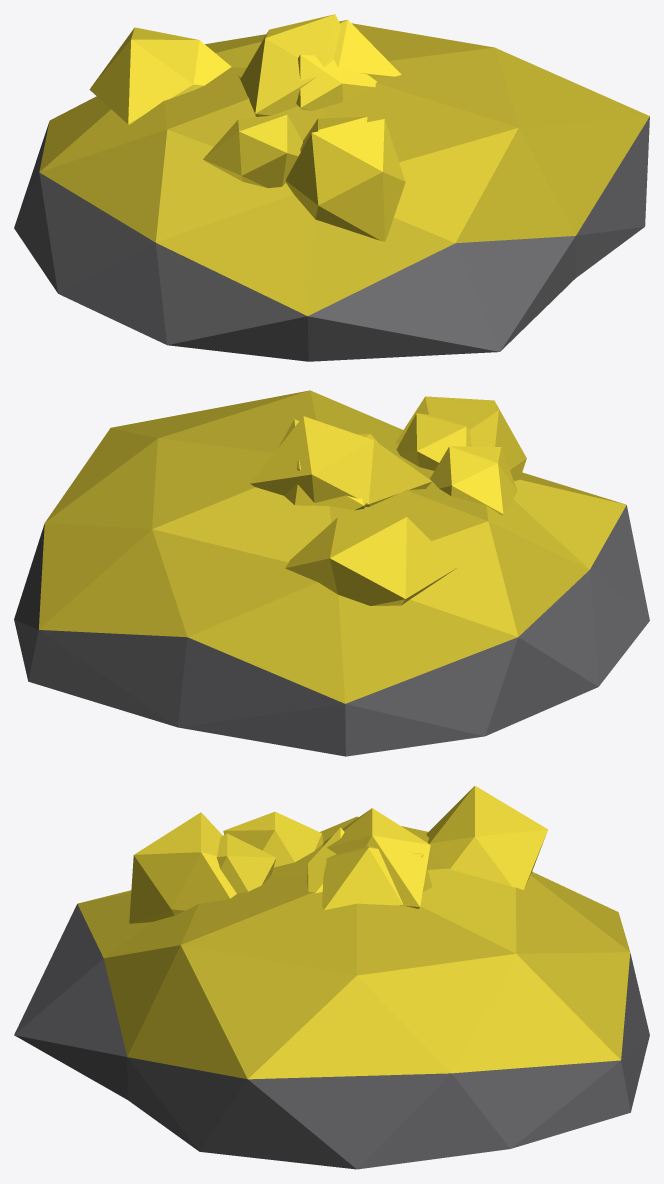
File: sulfur_b.glb
3 renders of one model, top to bottom at view 1: azimuth 30°, elevation 25°; view 2: azimuth 150°, elevation 25°; view 3: azimuth 270°, elevation 25°, orthographic.
Parts seen in each view (by area): view 1: sulfur_b; view 2: sulfur_b; view 3: sulfur_b.
Part boxes in pixels (bbox=[...]): sulfur_b: bbox=[14, 14, 649, 361]; sulfur_b: bbox=[14, 390, 649, 756]; sulfur_b: bbox=[14, 786, 649, 1169].
Size of the model in its own units: 0.9576 by 0.3435 by 0.9605.
